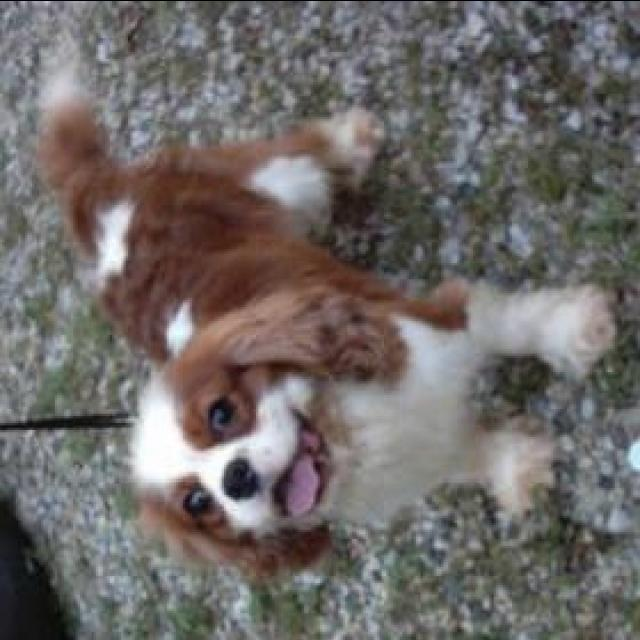blenheim_spaniel: (39, 60, 619, 580)
